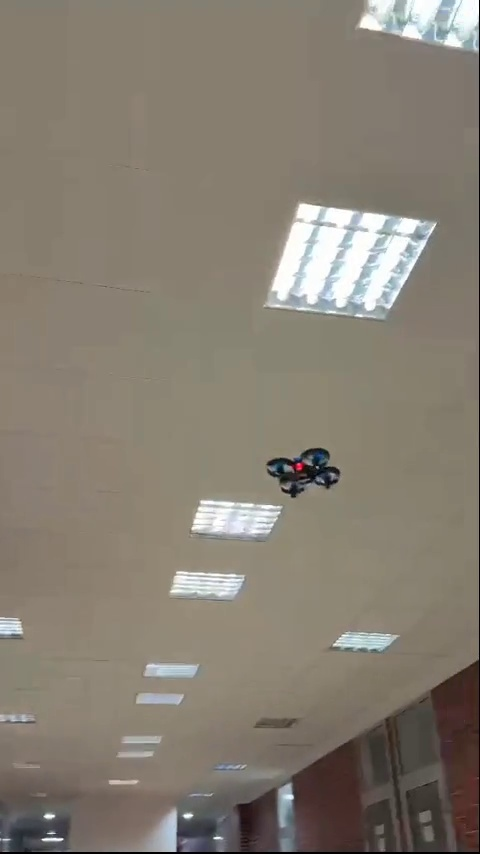drone: (270, 446, 345, 500)
